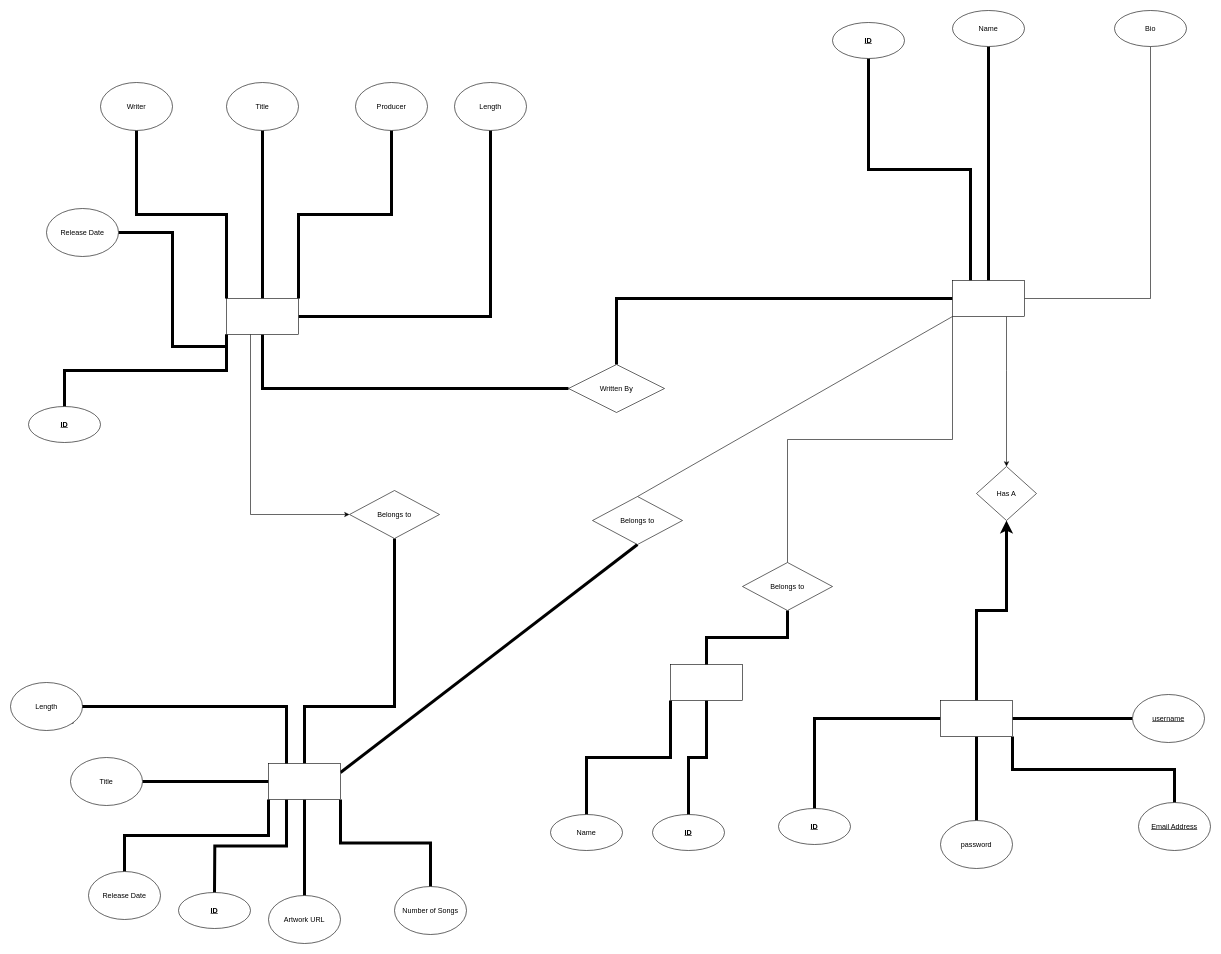
Some shapes in this 1221 by 954 pixel diagram are drawn without their labels. Here are the shapes that lost their labels. From the top down, the centre of each, then its label:
At point 262,316: "Song".
At point 988,298: "Artist".
At point 706,682: "Group".
At point 976,718: "Account".
At point 304,781: "Album".
